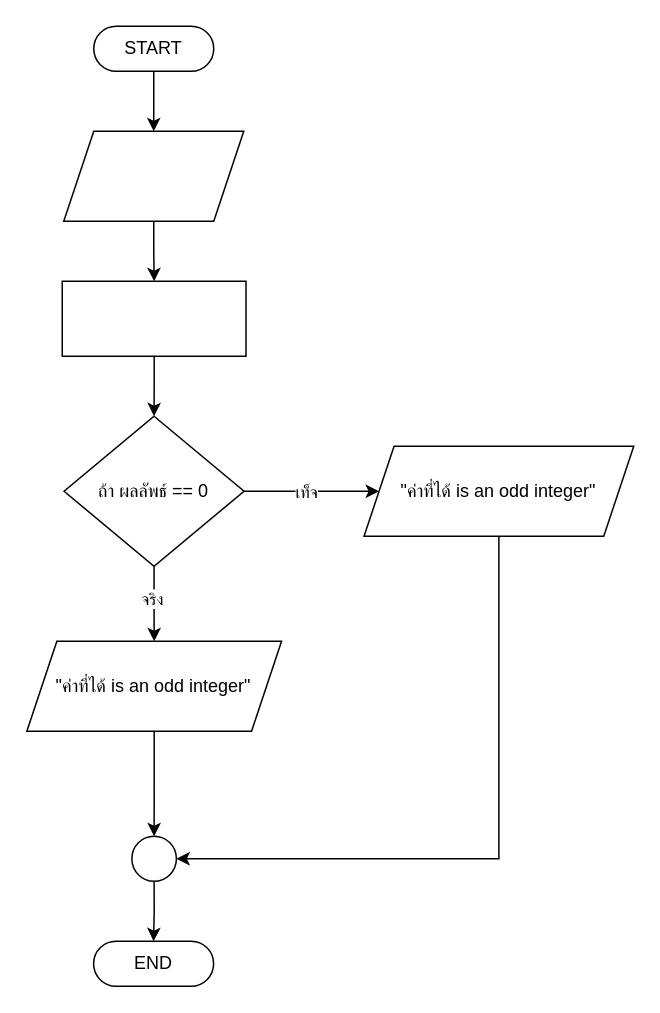
This 660x1013 diagram has some shape labels left out. Here are the shapes that lost their labels. From the top down, the centre of each, then its label:
point 153,175: "Input :" #ใส่ค่าจำนวนหนึ่ง
point 153,318: ค่าที่ได้ % 2 = ผลลัพธ์
